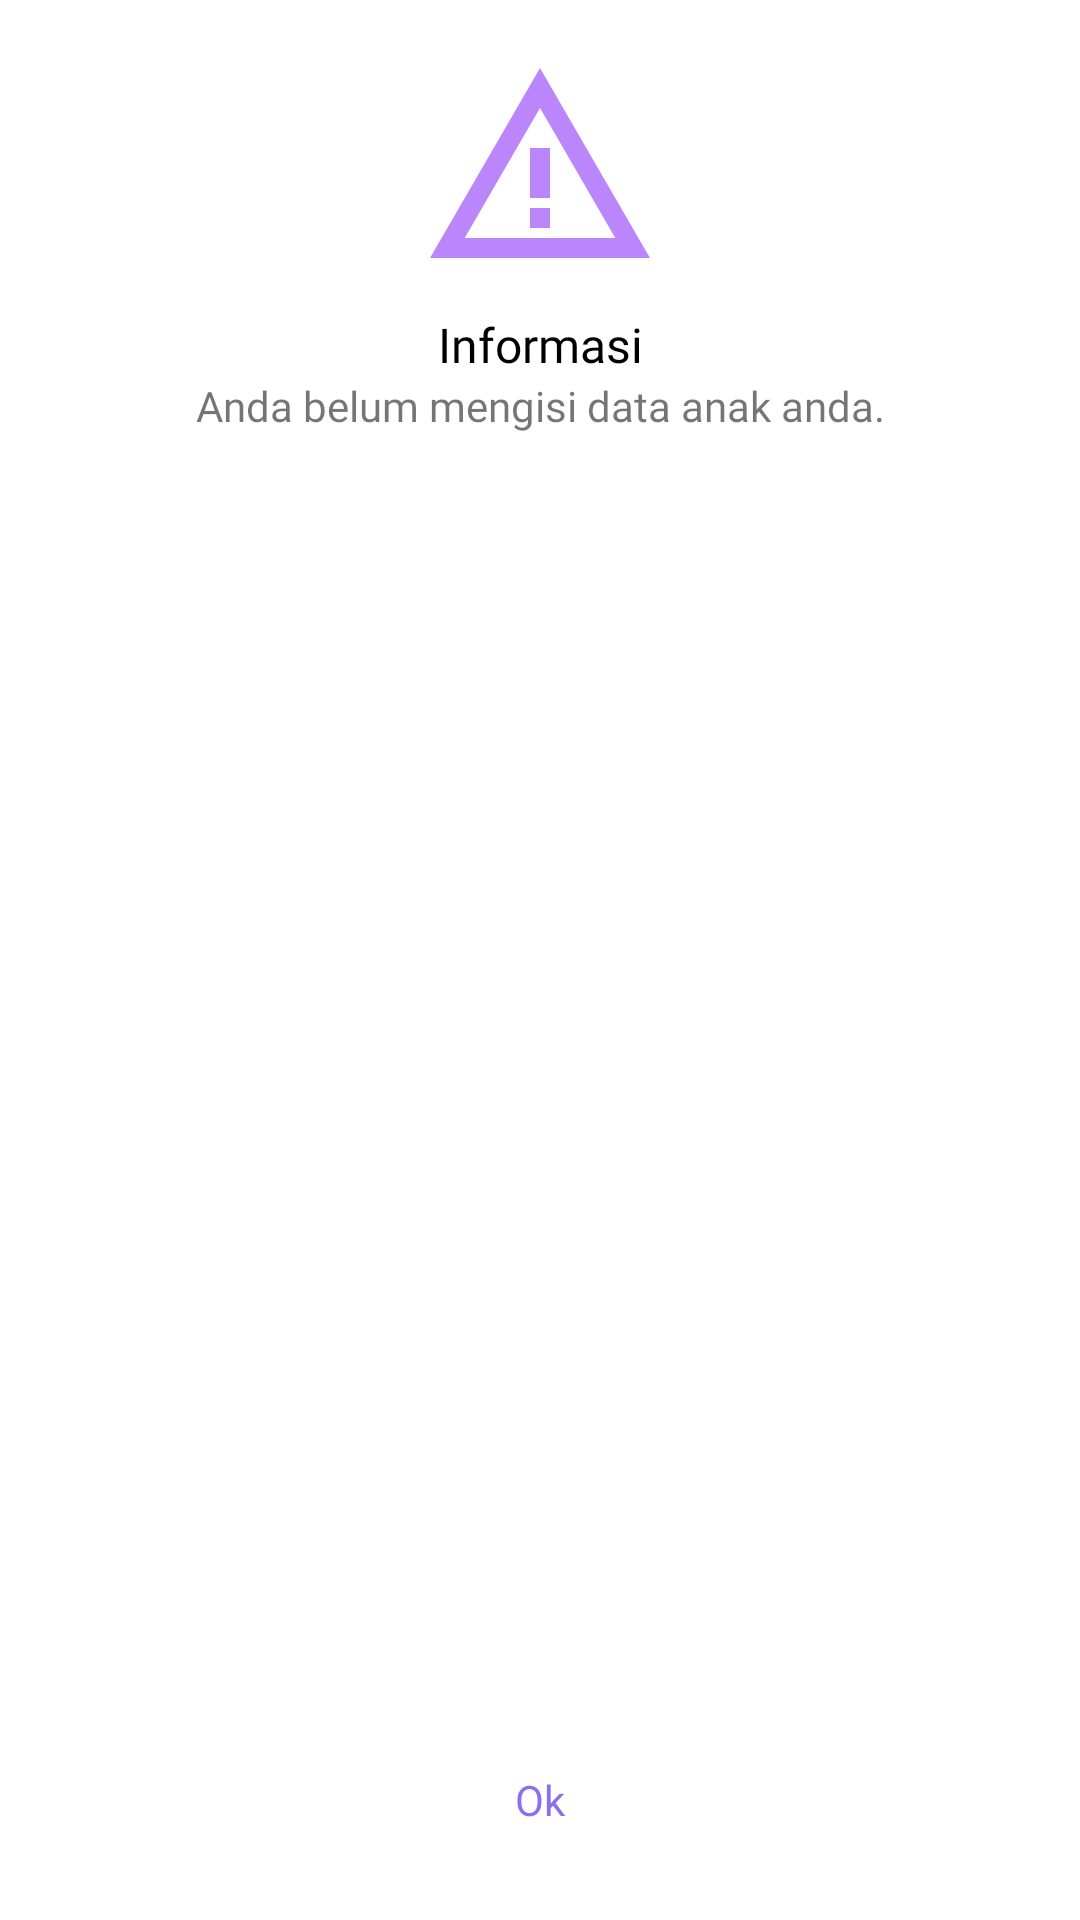

Where icons sit on this 1080 × 1920 app screen, as (x1, y1, x2, y2):
warning: (430, 68, 650, 258)
